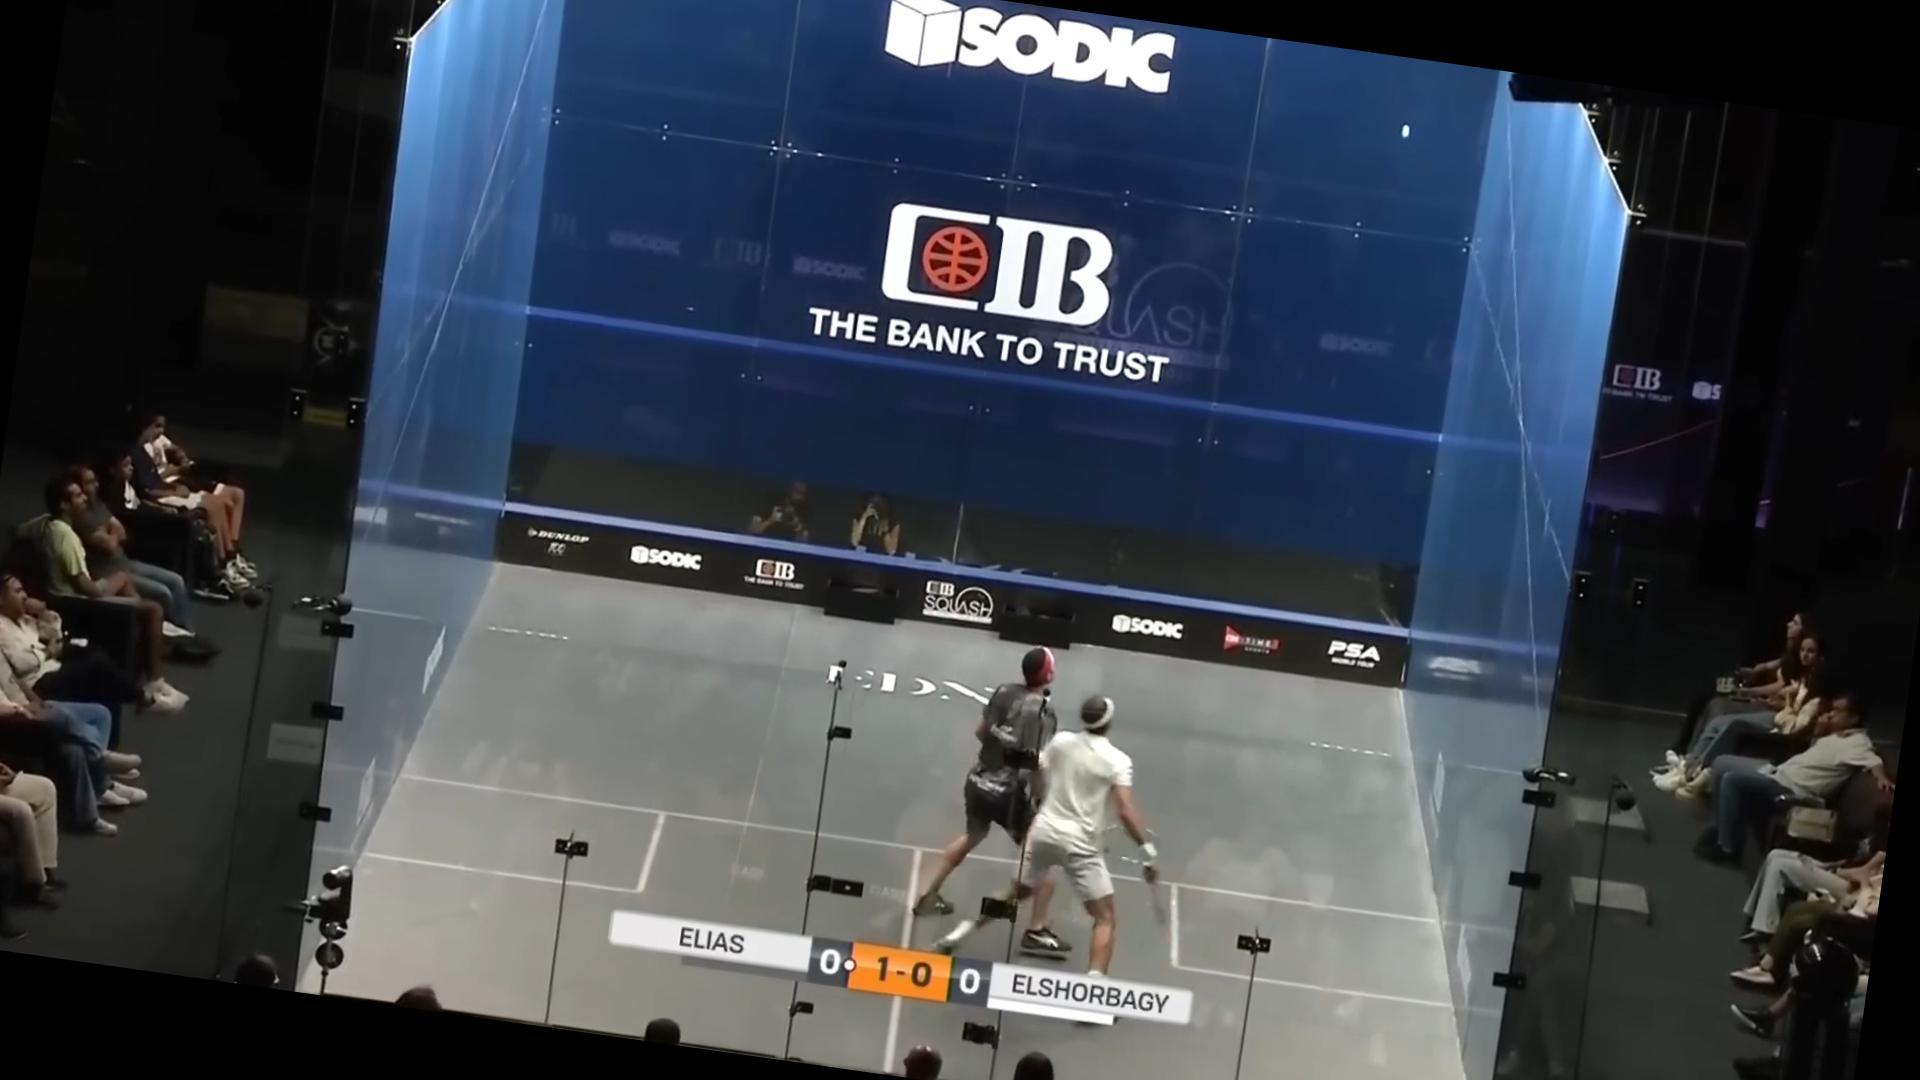Squash-Ball: (1386, 115, 1422, 146)
